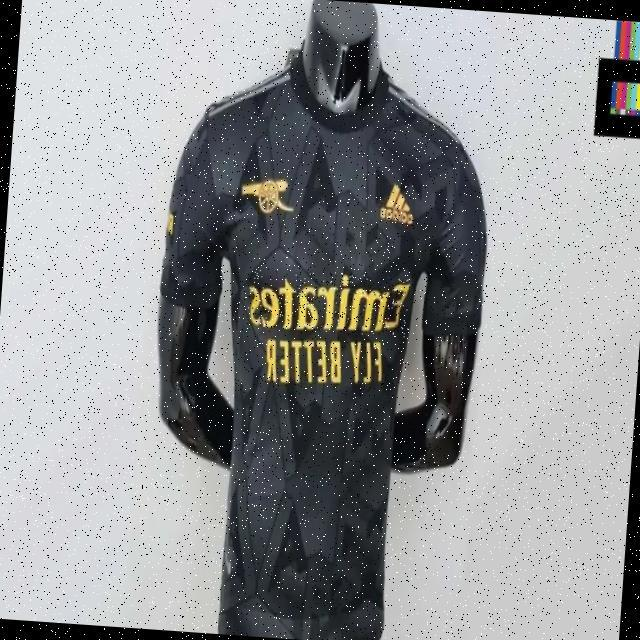Adidas: (378, 181, 415, 226)
Emirates: (247, 266, 412, 337)
